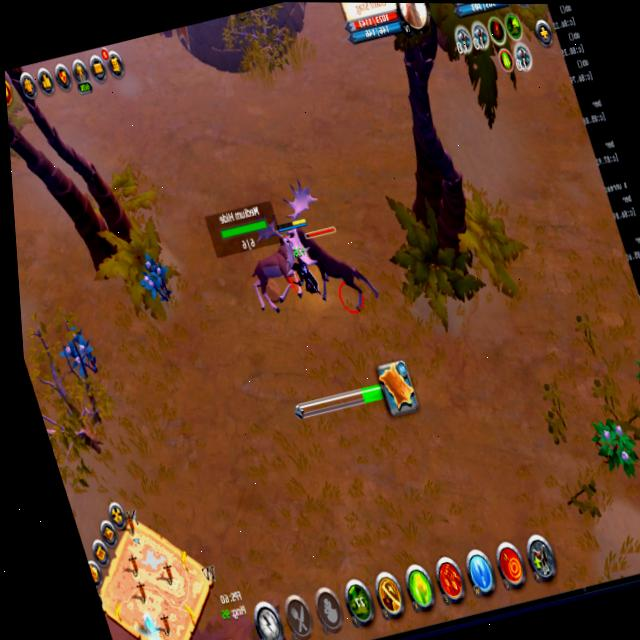hide: (586, 407, 640, 481), (131, 246, 180, 311), (58, 322, 104, 384), (630, 347, 640, 409)
mob: (228, 209, 313, 317)
ore: (298, 215, 384, 325)
red: (272, 213, 330, 304)
